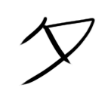ta: (12, 13, 97, 87)
